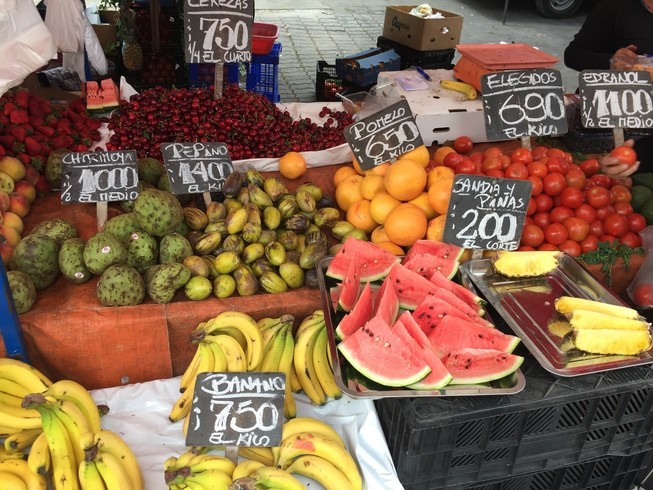precio: (181, 362, 292, 456), (440, 170, 537, 262), (337, 96, 433, 187), (477, 67, 572, 154), (57, 141, 145, 212), (180, 1, 258, 72), (158, 136, 248, 193), (576, 66, 653, 130)
